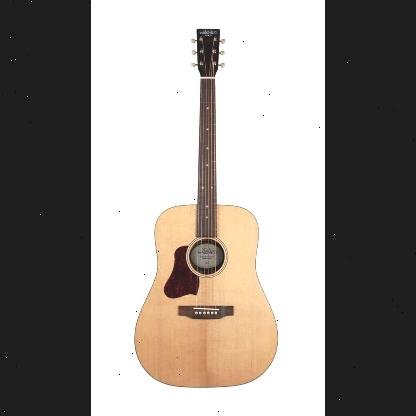acousticguitar: (132, 27, 280, 388)
